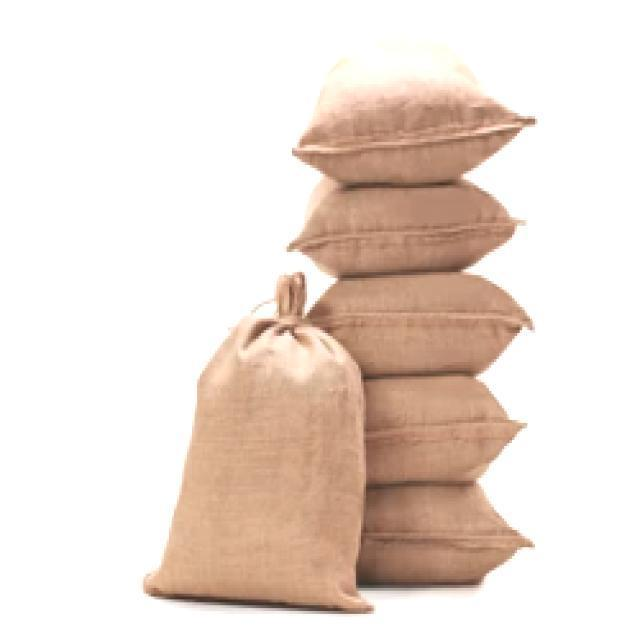gunny_bag: (138, 266, 374, 611), (284, 23, 540, 185), (284, 168, 533, 281), (302, 264, 543, 379), (343, 475, 553, 591), (343, 364, 535, 486)
